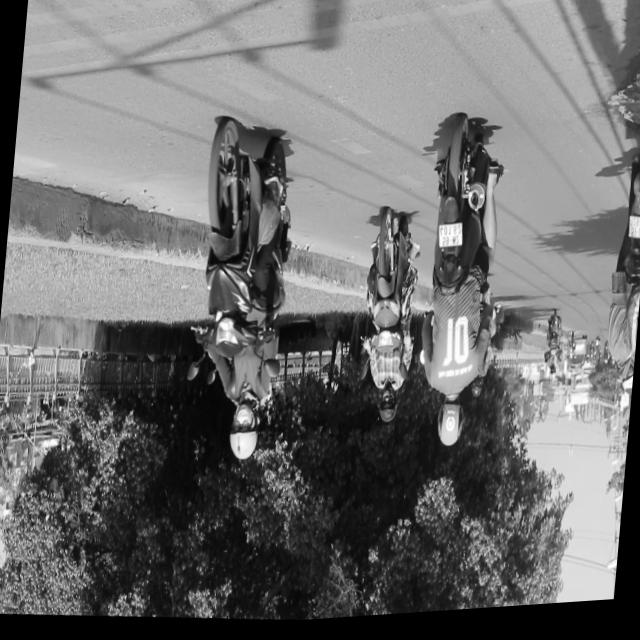helmet: (225, 402, 260, 466), (432, 398, 464, 454), (614, 368, 633, 414), (375, 392, 396, 430)
licenseplate: (174, 111, 304, 473), (404, 117, 512, 460), (349, 209, 425, 433), (595, 136, 640, 422)
nohelmet: (436, 226, 462, 256), (626, 223, 640, 247)
